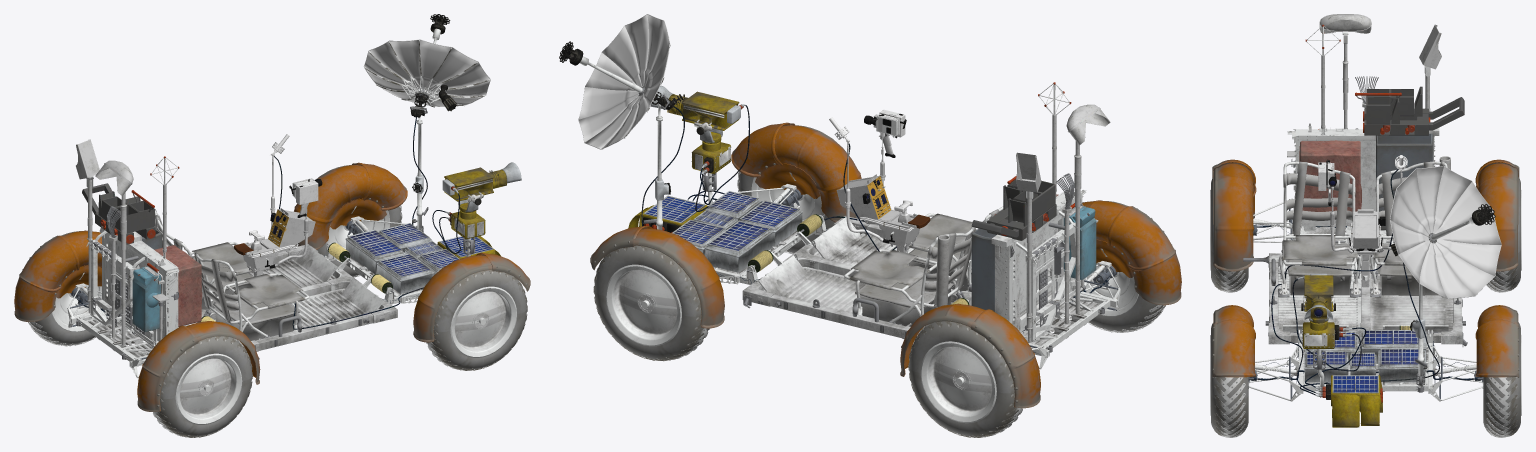
Rendered from apollo-15-lunar-roving-vehicle.glb.
3 renders of one model, left to right at view 1: azimuth 30°, elevation 25°; view 2: azimuth 150°, elevation 25°; view 3: azimuth 270°, elevation 25°, orthographic. The views are drawn at different scales.
Parts seen in each view (by area): view 1: ApolloRoverRig__1.001_2; view 2: ApolloRoverRig__1.001_2; view 3: ApolloRoverRig__1.001_2.
Boxes of the visible parts, box(x1,y1,x2,y2) form: ApolloRoverRig__1.001_2: box(14, 14, 530, 437); ApolloRoverRig__1.001_2: box(559, 14, 1181, 437); ApolloRoverRig__1.001_2: box(1210, 14, 1521, 437).
Bounding box in the file's own units: 3.1 × 1.77 × 1.78.
9 materials, 7 textured.
